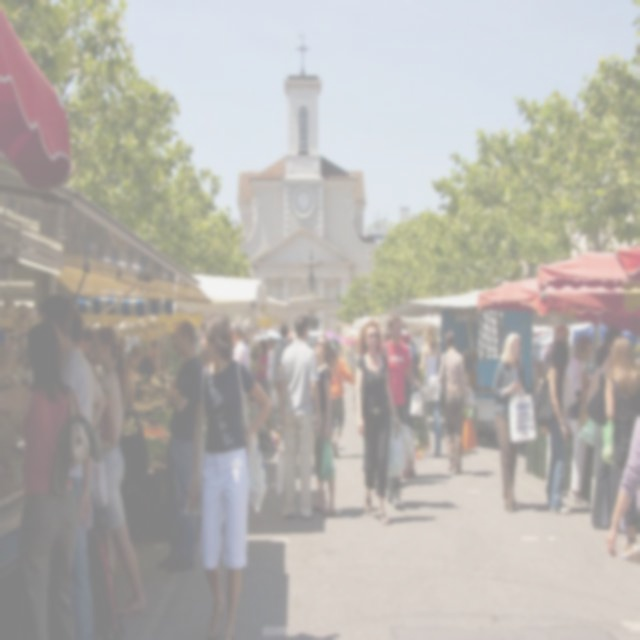pessoa: (0, 320, 105, 640), (188, 309, 276, 639), (36, 290, 109, 640), (91, 324, 148, 614), (69, 306, 110, 639), (353, 321, 418, 528), (158, 318, 204, 574), (276, 312, 324, 521), (378, 313, 426, 512), (490, 329, 540, 513), (602, 333, 640, 562), (530, 338, 574, 516), (589, 325, 624, 530), (437, 328, 480, 480), (604, 413, 640, 561), (541, 322, 571, 498), (565, 334, 595, 506), (310, 334, 338, 518), (583, 342, 609, 516), (418, 324, 443, 459), (328, 342, 354, 460), (400, 328, 420, 480), (272, 322, 294, 419), (541, 341, 564, 422), (136, 337, 164, 384), (125, 343, 146, 404), (231, 321, 251, 372), (254, 338, 270, 396), (193, 321, 210, 372), (266, 336, 276, 394), (401, 318, 418, 352), (82, 325, 95, 355), (308, 314, 320, 342), (379, 320, 392, 342), (634, 342, 640, 374), (242, 332, 250, 345), (272, 338, 278, 348)
